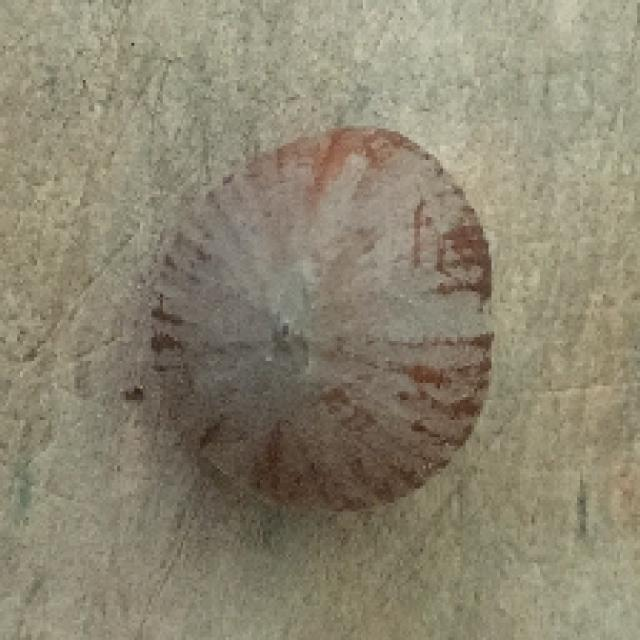qualityHazelnut: (142, 128, 490, 520)
